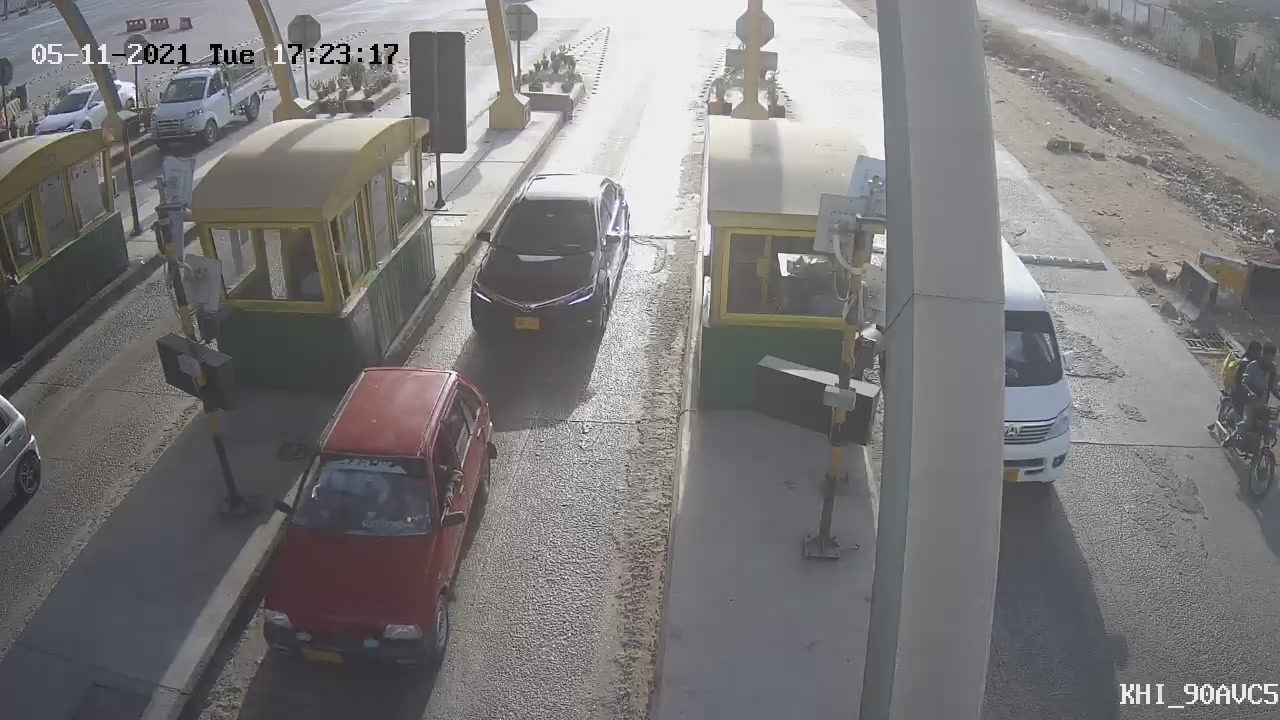F1: (448, 149, 651, 377)
